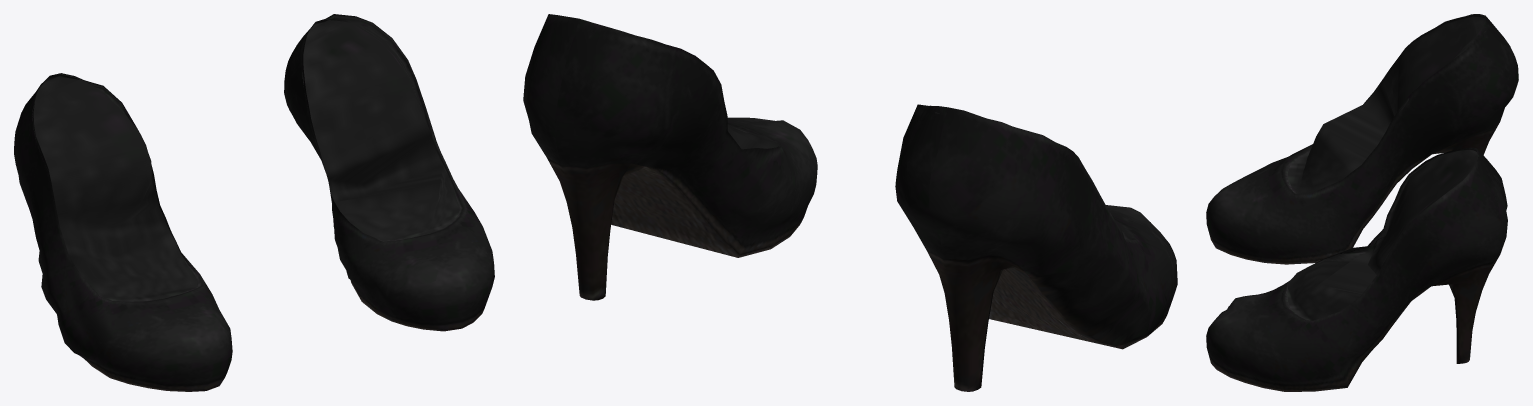
File: ada-shoes.glb
The picture shows the model from 3 angles, left to right: view 1: azimuth 30°, elevation 25°; view 2: azimuth 150°, elevation 25°; view 3: azimuth 270°, elevation 25°; orthographic projection. The views are drawn at different scales.
Parts seen in each view (by area): view 1: High_Heels; view 2: High_Heels; view 3: High_Heels.
Boxes of the visible parts, x1,y1,x2,y2 form: High_Heels: (14, 14, 494, 391); High_Heels: (523, 14, 1177, 391); High_Heels: (1206, 14, 1518, 391).
Bounding box in the file's own units: 0.3303 × 0.171 × 0.2222.
Materials: 1 (1 with a texture image).
